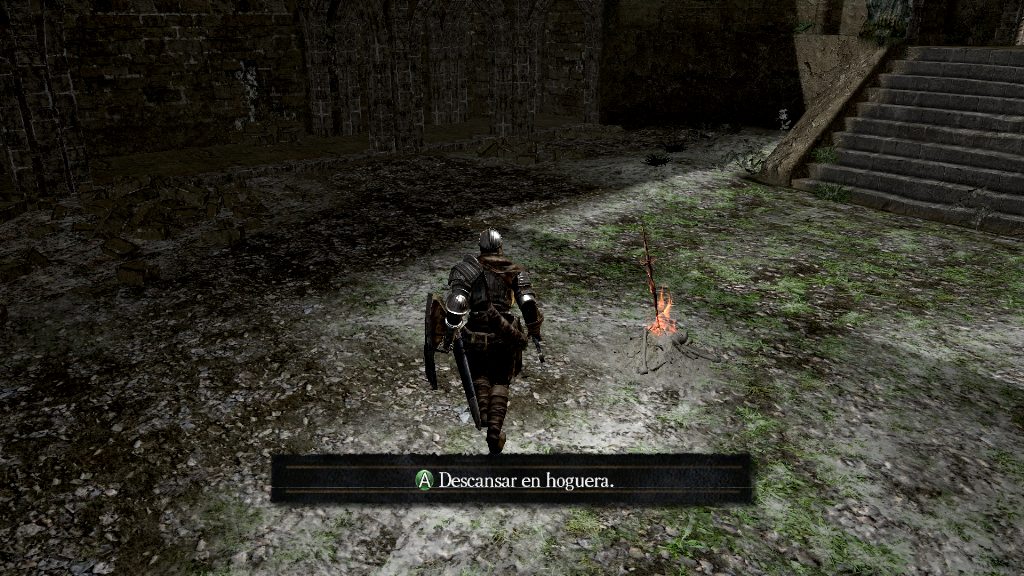bonfire: (623, 223, 719, 374)
dialogBox: (271, 454, 754, 505)
player: (421, 227, 547, 454)
